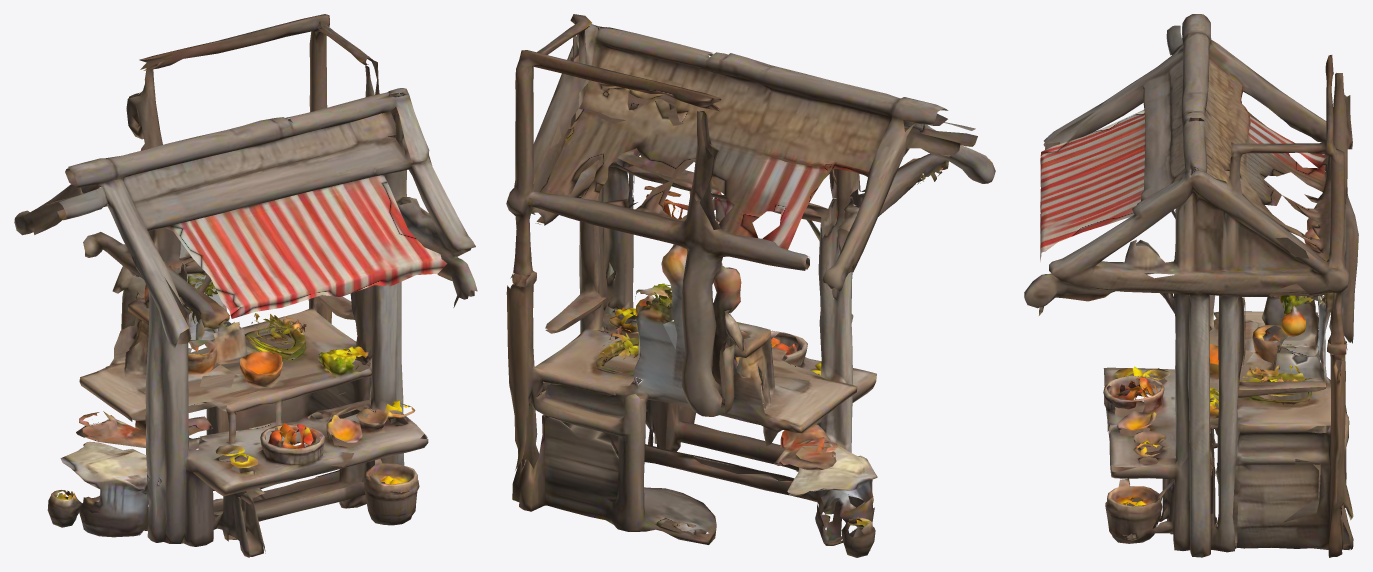
Rendered from prop_market_stall.glb.
3 renders of one model, left to right at view 1: azimuth 30°, elevation 25°; view 2: azimuth 150°, elevation 25°; view 3: azimuth 270°, elevation 25°, orthographic. The views are drawn at different scales.
Visible parts, largest first — view 1: world; view 2: world; view 3: world.
Part boxes in pixels (bbox=[...]): world: bbox=[14, 14, 477, 557]; world: bbox=[506, 14, 995, 557]; world: bbox=[1024, 14, 1358, 557].
Size of the model in its own units: 0.8827 by 0.9964 by 0.7332.
1 material, 1 textured.
